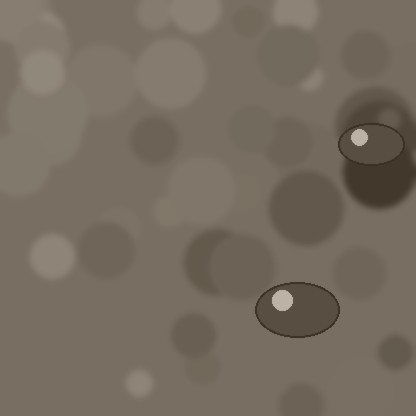gota: (255, 284, 339, 342), (338, 125, 404, 169)
